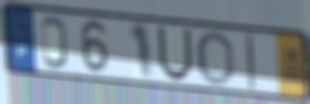0: (40, 16, 69, 70)
1: (128, 21, 155, 81)
6: (79, 18, 111, 75)
I: (244, 32, 258, 92)
O: (196, 29, 236, 88)
U: (156, 24, 194, 82)
